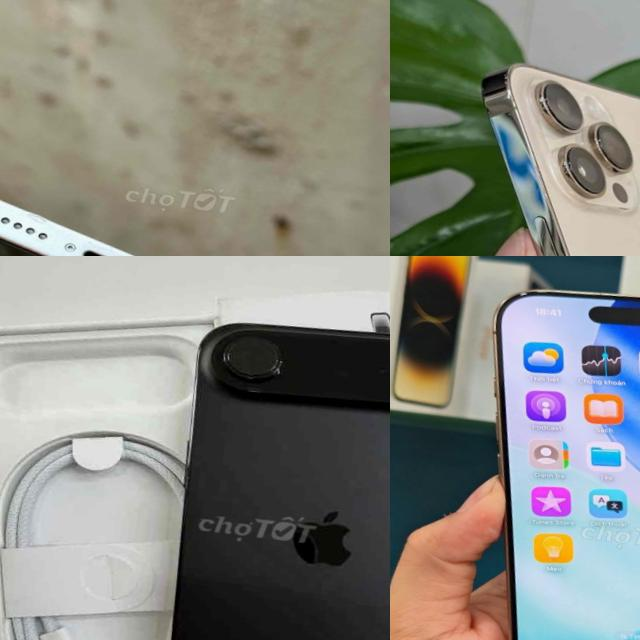scratch: (586, 133, 608, 154), (560, 160, 576, 178), (540, 93, 554, 112)
